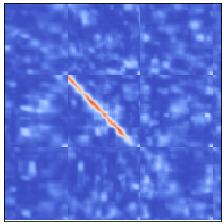action_path: (65, 75, 140, 149)
